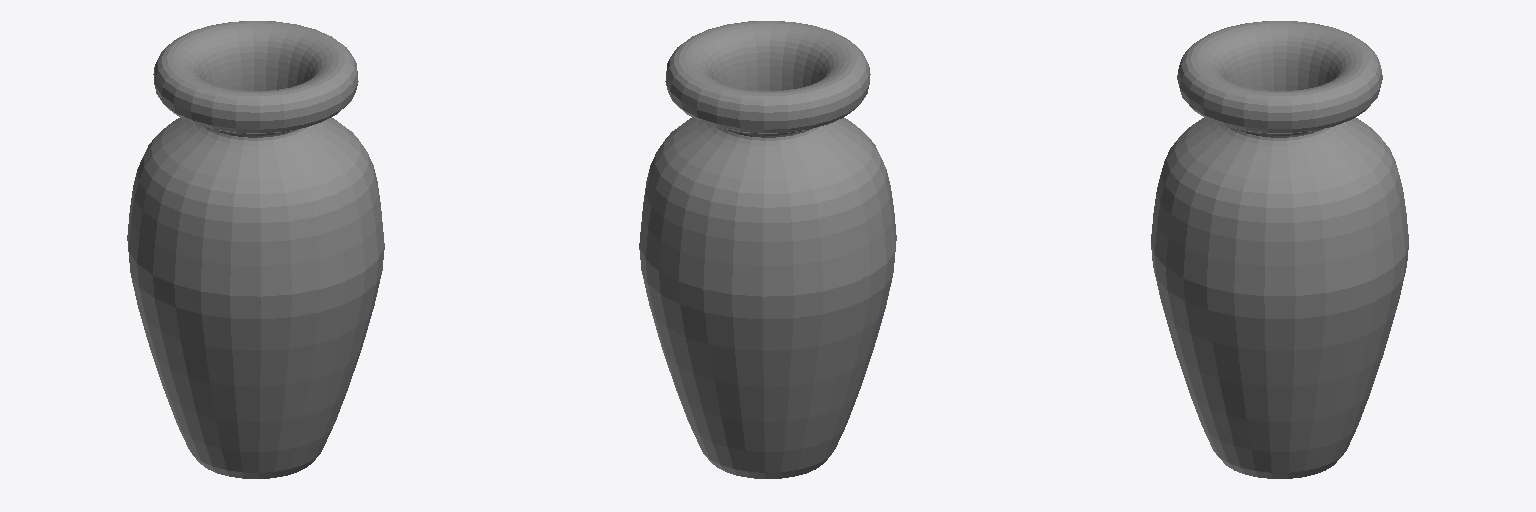
The model's file is pot1.obj.
3 views of the same model, side by side, from view 1: azimuth 30°, elevation 25°; view 2: azimuth 150°, elevation 25°; view 3: azimuth 270°, elevation 25° (orthographic).
Parts seen in each view (by area): view 1: Line90; view 2: Line90; view 3: Line90.
Part boxes in pixels (x1,y1,x2,y2): Line90: (127,21,384,478); Line90: (639,21,896,478); Line90: (1151,21,1408,478).
Bounding box in the file's own units: 7.49 × 12.73 × 7.55.